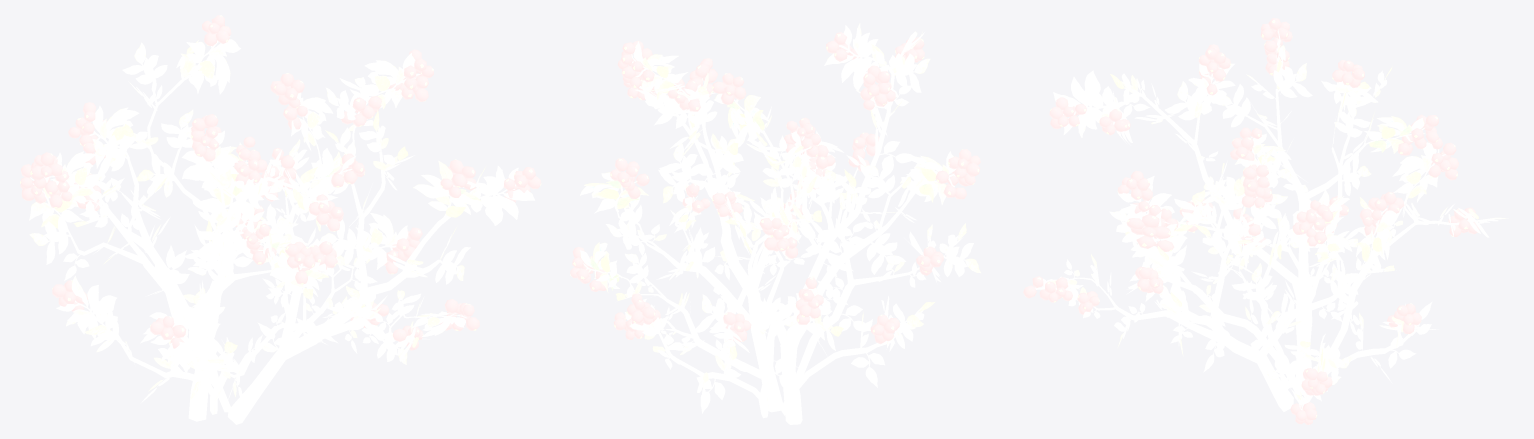
3 views of the same model, side by side, from view 1: azimuth 30°, elevation 25°; view 2: azimuth 150°, elevation 25°; view 3: azimuth 270°, elevation 25° (orthographic). The views are drawn at different scales.
Parts seen in each view (by area): view 1: SM_Berry_Bush_01_LOD0; view 2: SM_Berry_Bush_01_LOD0; view 3: SM_Berry_Bush_01_LOD0.
Boxes of the visible parts, x1=… form: SM_Berry_Bush_01_LOD0: x1=20, y1=15, x2=541, y2=424; SM_Berry_Bush_01_LOD0: x1=570, y1=23, x2=980, y2=424; SM_Berry_Bush_01_LOD0: x1=1023, y1=18, x2=1508, y2=424.
Size of the model in its own units: 1.6 by 1.34 by 1.69.
1 material, 1 textured.
